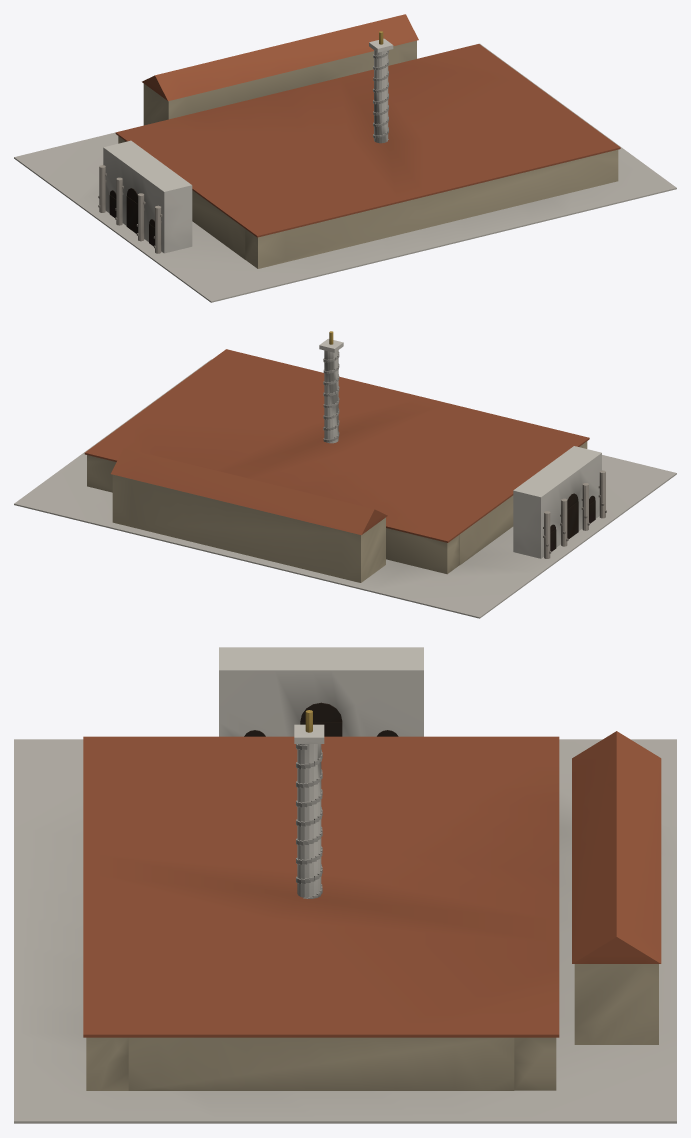
File: forum-of-theodosius.glb
3 renders of one model, top to bottom at view 1: azimuth 30°, elevation 25°; view 2: azimuth 150°, elevation 25°; view 3: azimuth 270°, elevation 25°, orthographic. The views are drawn at different scales.
Parts seen in each view (by area): view 1: p0_colonnades, p1_arch, p2_column; view 2: p0_colonnades, p1_arch, p2_column; view 3: p0_colonnades, p1_arch, p2_column.
Part boxes in pixels (x1,y1,x2,y2): p0_colonnades: (14, 43, 676, 302); p1_arch: (98, 14, 418, 253); p2_column: (369, 31, 393, 143); p0_colonnades: (14, 349, 676, 618); p1_arch: (111, 446, 606, 582); p2_column: (319, 331, 343, 443); p0_colonnades: (14, 736, 676, 1123); p1_arch: (219, 647, 661, 1044); p2_column: (294, 710, 324, 898).
Bounding box in the file's own units: 150 × 44.2 × 110.
